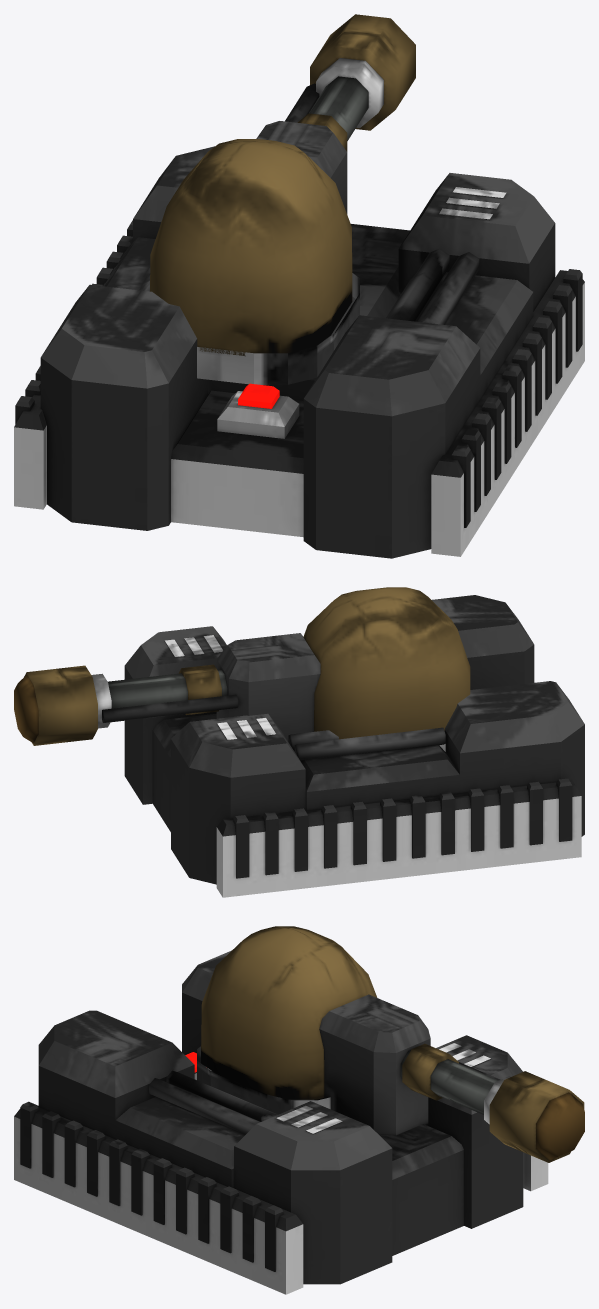
Rendered from newshp-13-f3.glb.
3 renders of one model, top to bottom at view 1: azimuth 30°, elevation 25°; view 2: azimuth 150°, elevation 25°; view 3: azimuth 270°, elevation 25°, orthographic. The views are drawn at different scales.
Visible parts, largest first — view 1: newshp-13-f3; view 2: newshp-13-f3; view 3: newshp-13-f3.
Part boxes in pixels (box(x1,y1,x2,y2)): newshp-13-f3: box(14, 14, 584, 558); newshp-13-f3: box(14, 587, 584, 897); newshp-13-f3: box(14, 926, 584, 1294).
Size of the model in its own units: 1.27 by 0.6167 by 1.36.
14 materials, 14 textured.
